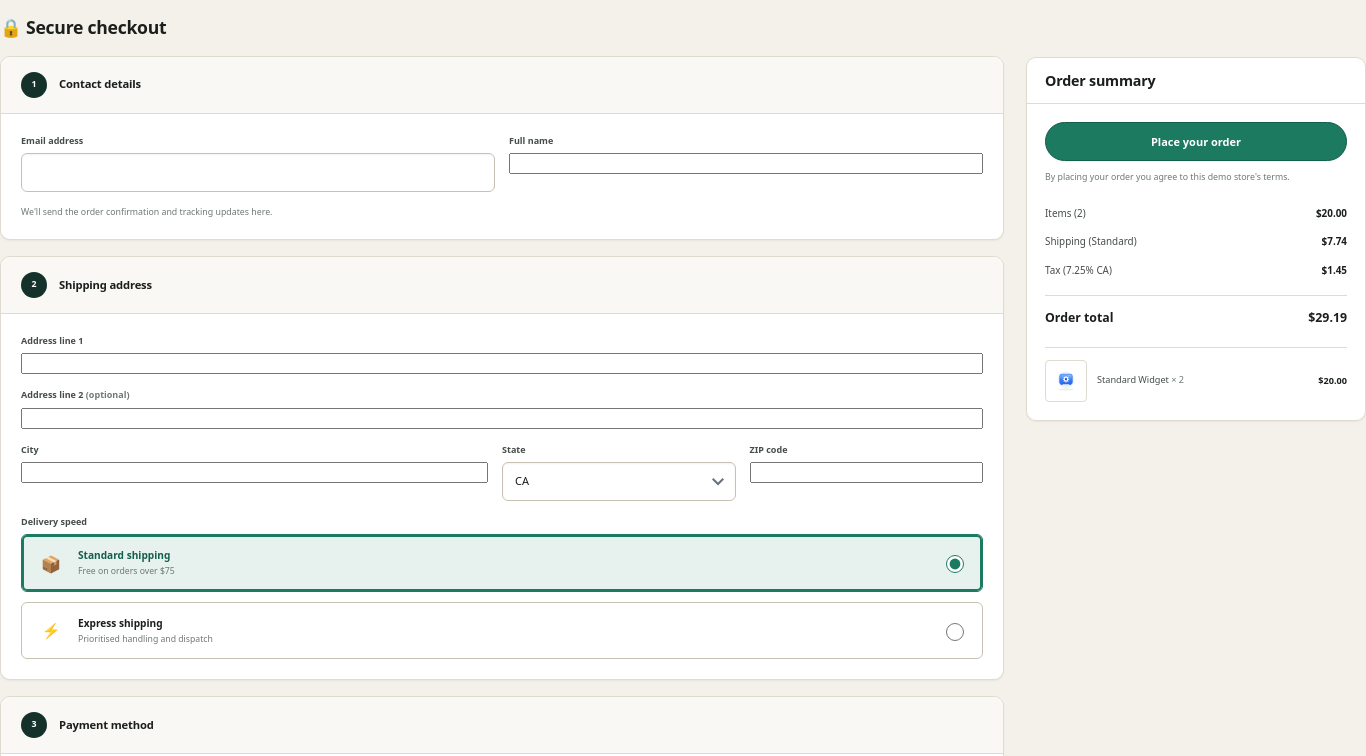
Test case: CheckoutPage › keeps the shopper on the page with the reason when payment is declined
The width and height of the screenshot is (1366, 756).
Check: the text "$29.19" is shown, box left=1308, top=309, right=1347, bottom=327
In the field labelled "Email address": [258, 172] box left=21, top=153, right=495, bottom=192, type "jane@example.com"
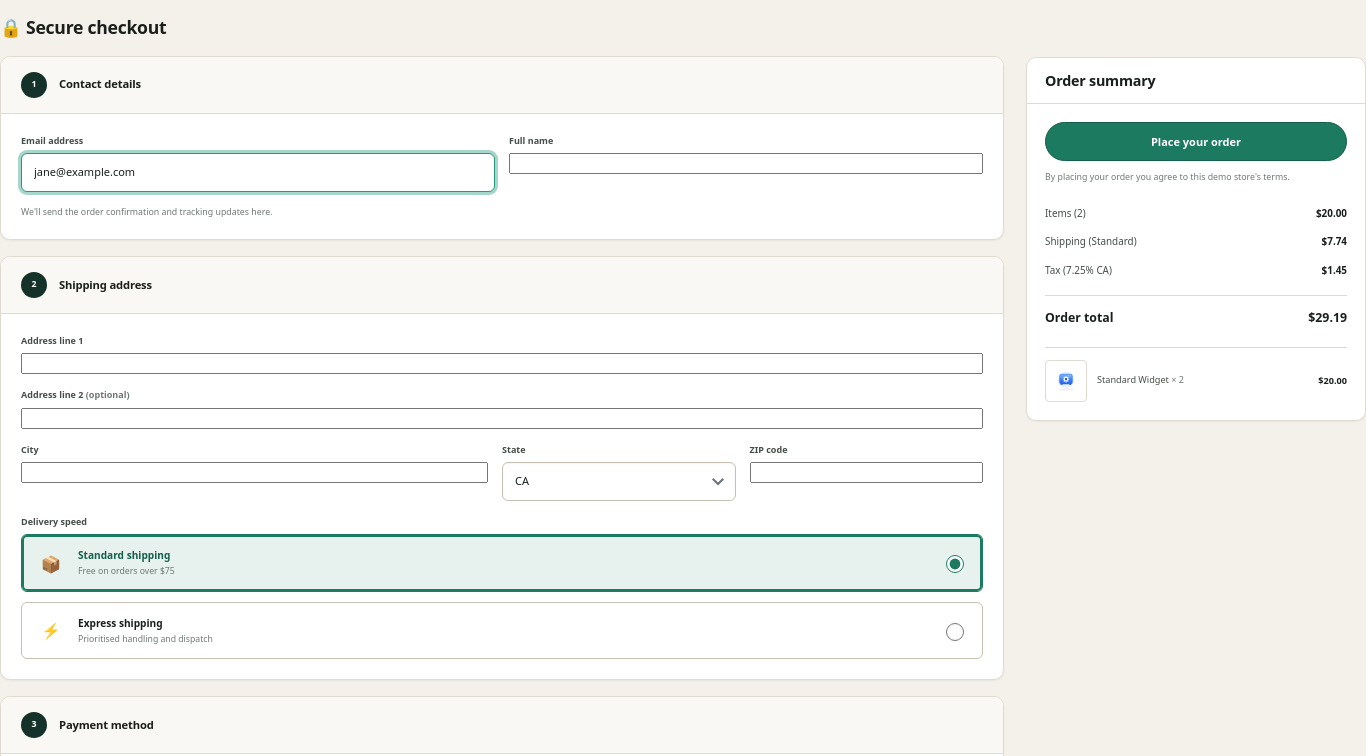
In the field labelled "Full name": [746, 164] box left=509, top=153, right=983, bottom=174, type "Jane Doe"
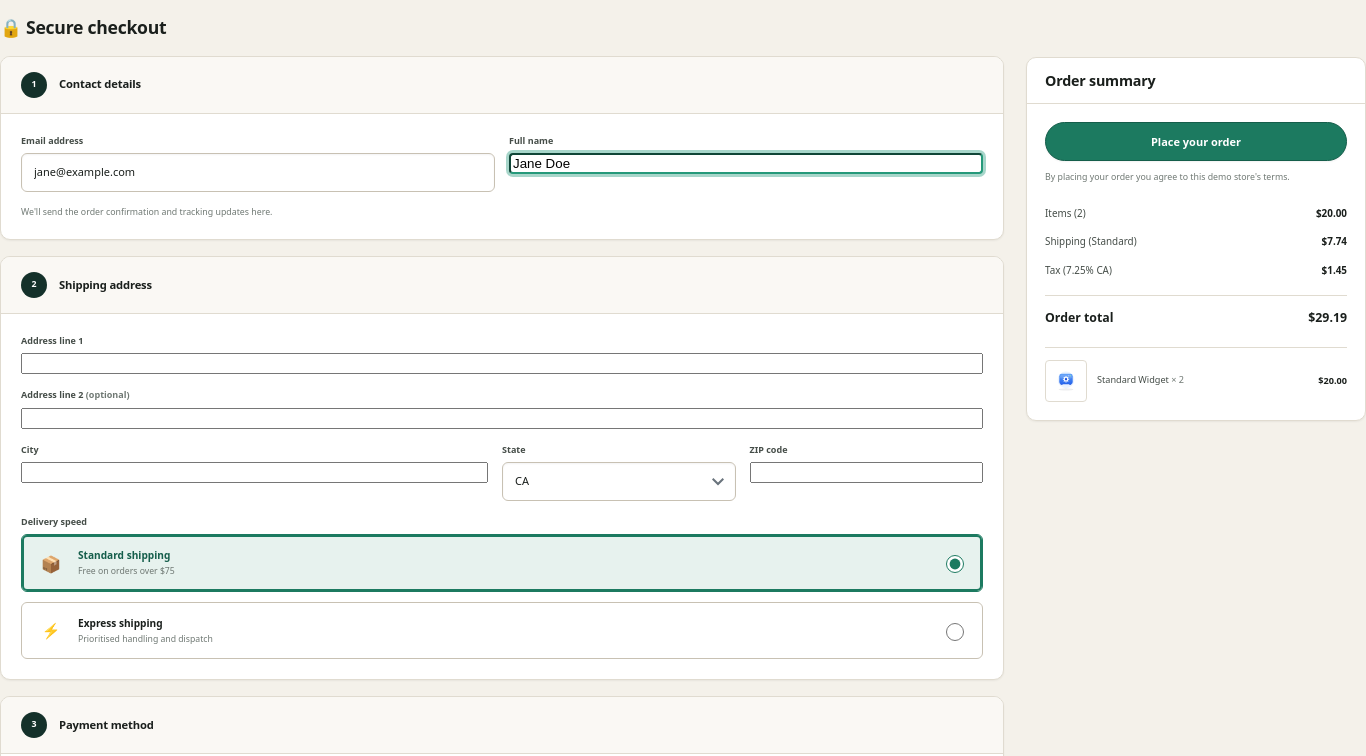
In the field labelled "Address line 1": [502, 364] box left=21, top=353, right=983, bottom=374, type "1 Main St"
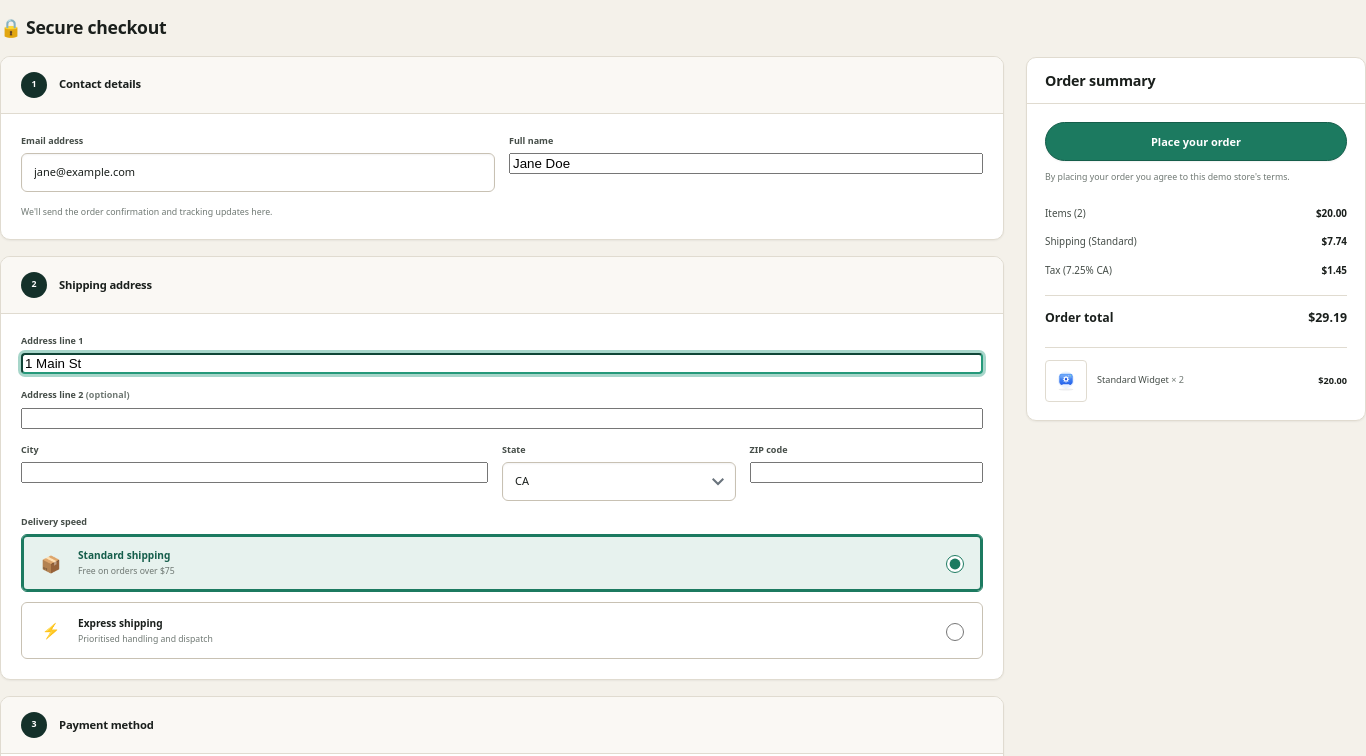
In the field labelled "City": [254, 473] box left=21, top=462, right=488, bottom=483, type "Springfield"
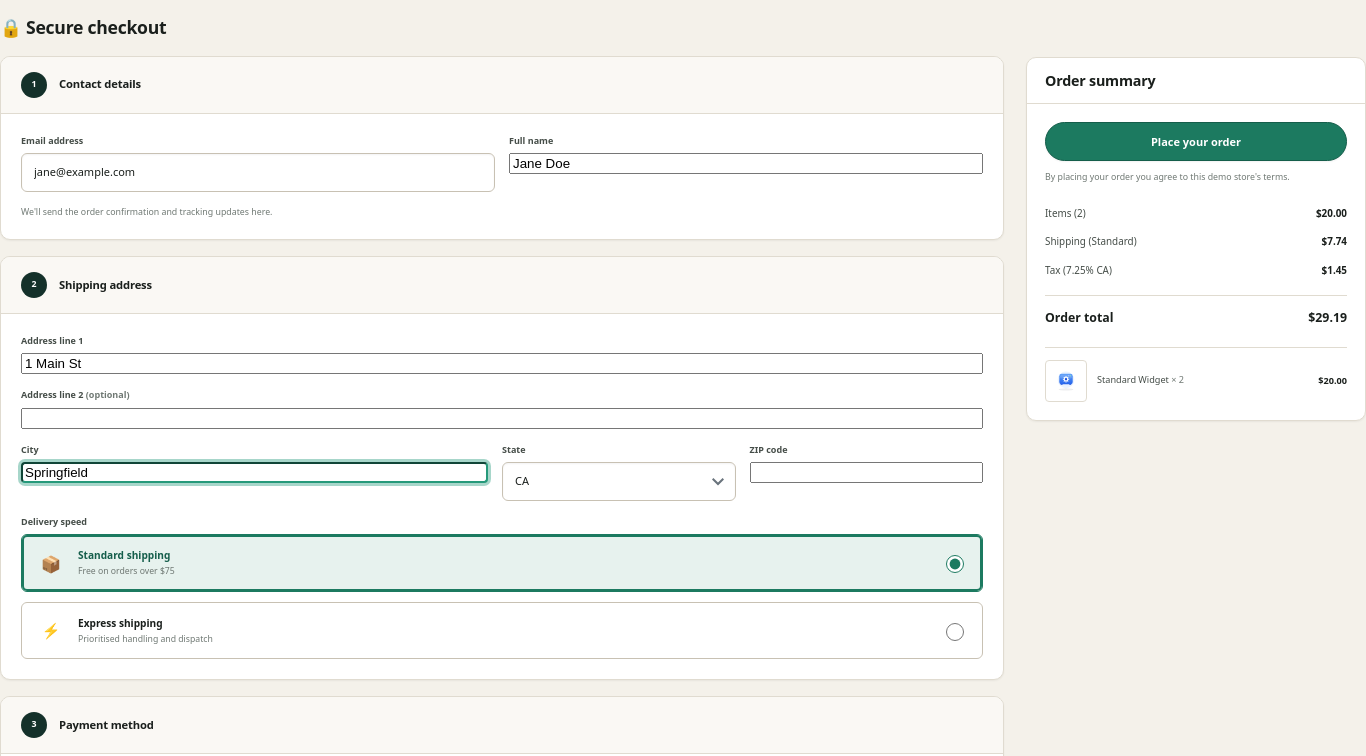
In the field labelled "ZIP code": [866, 473] box left=750, top=462, right=983, bottom=483, type "90210"
(page scrolled)
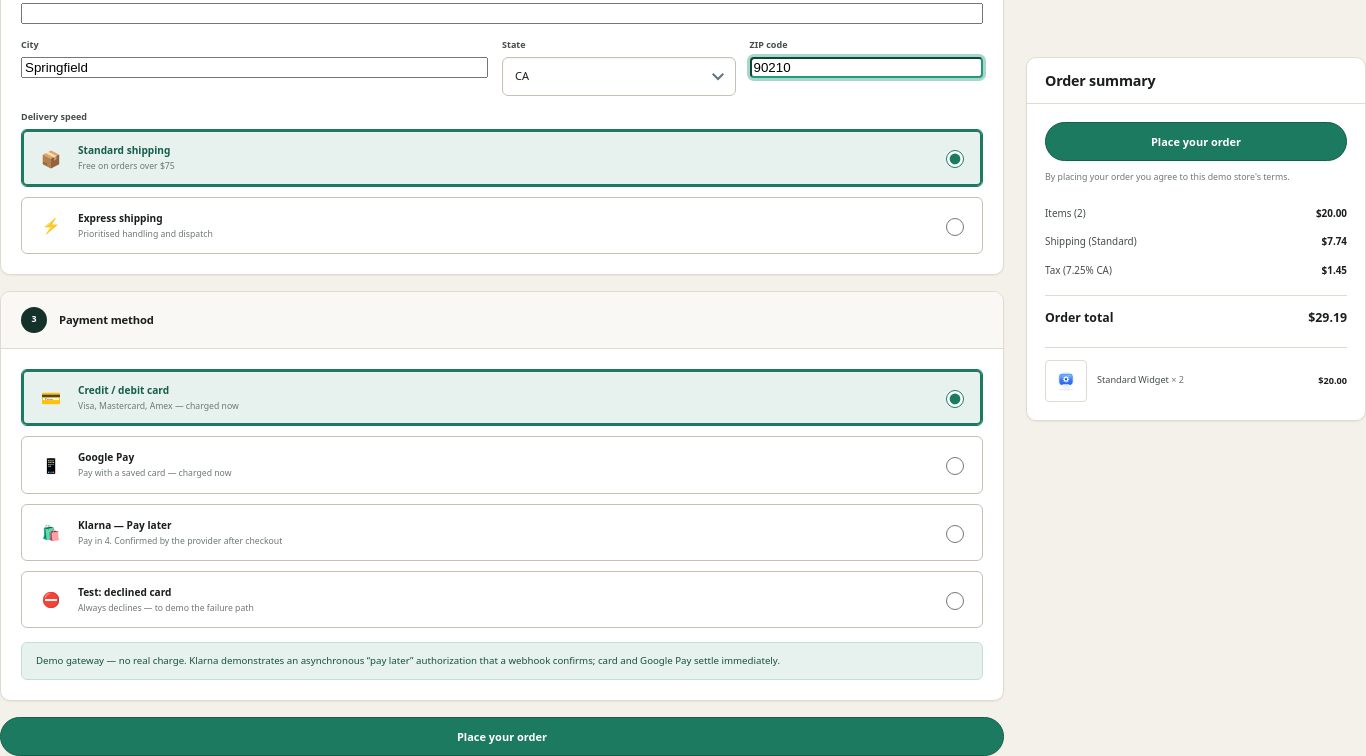
Click the button "Place your order" below "Test: declined card": [502, 737] box left=0, top=717, right=1004, bottom=755
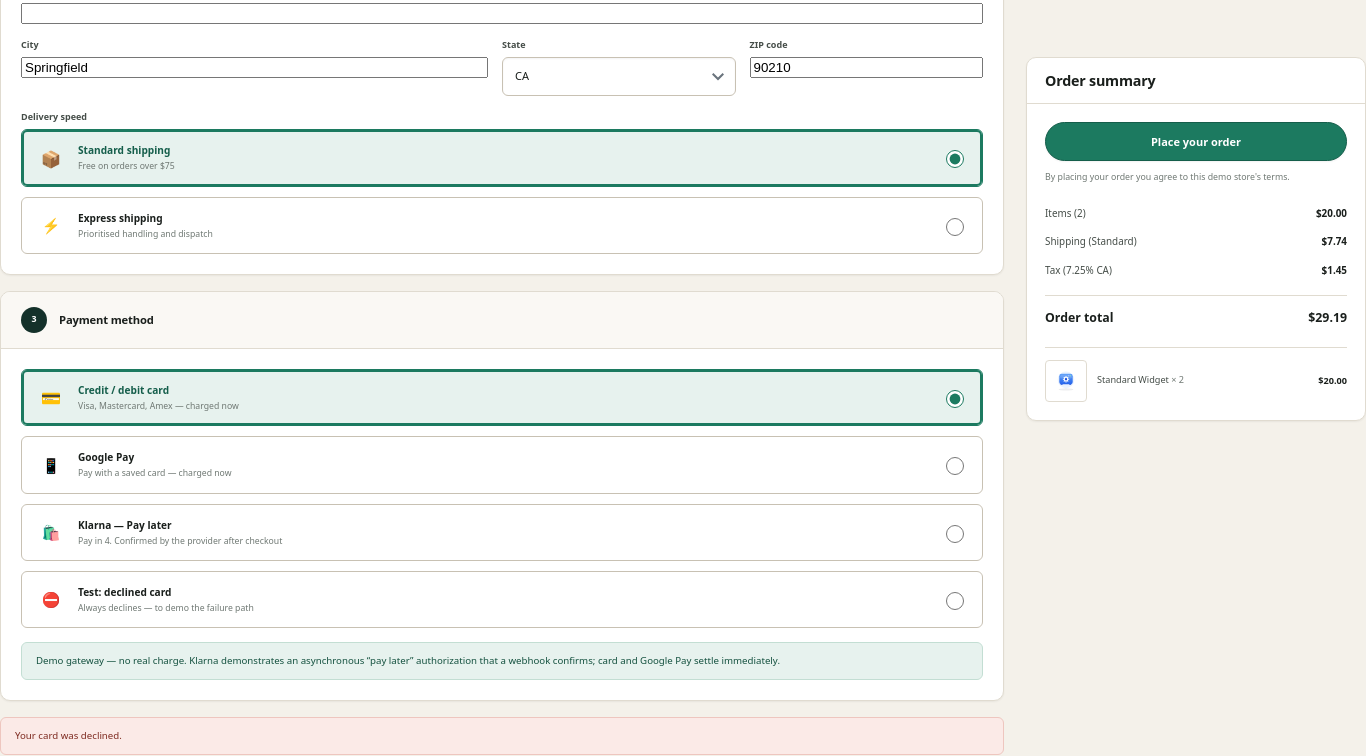
Check: the text "Your card was declined." is shown, box left=0, top=717, right=1004, bottom=755
